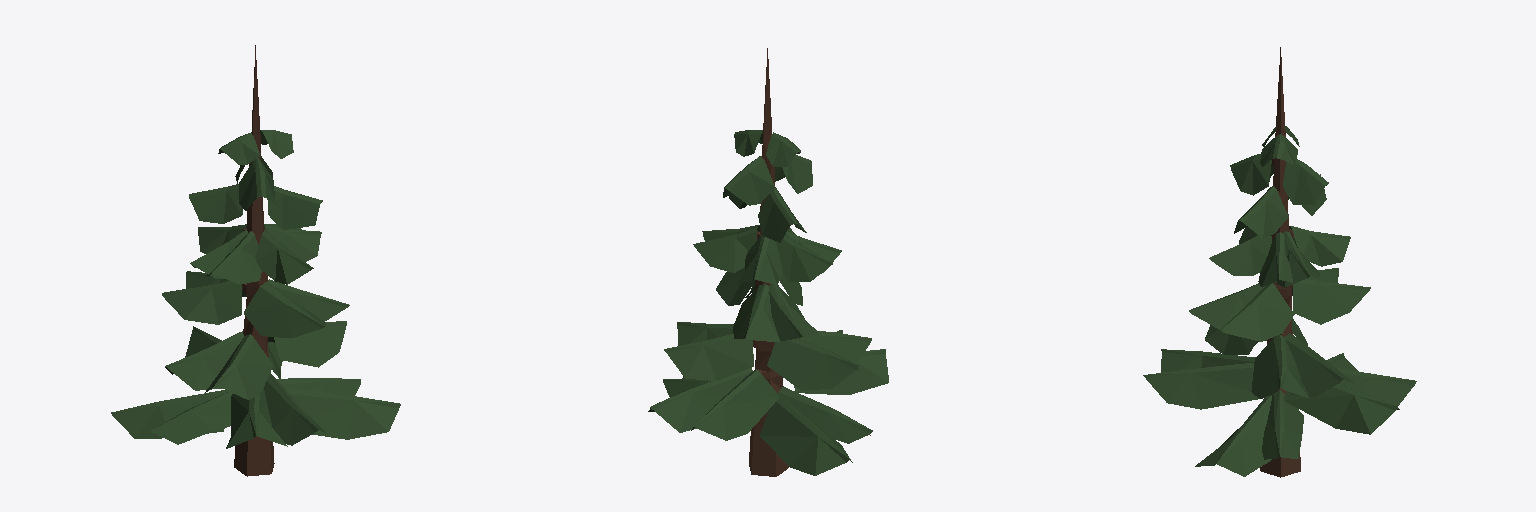
Rendered from PineTransp.obj.
3 views of the same model, side by side, from view 1: azimuth 30°, elevation 25°; view 2: azimuth 150°, elevation 25°; view 3: azimuth 270°, elevation 25° (orthographic).
Visible parts, largest first — view 1: Mesh; view 2: Mesh; view 3: Mesh.
Boxes of the visible parts, x1,y1,x2,y2 form: Mesh: [111, 45, 400, 476]; Mesh: [648, 48, 888, 476]; Mesh: [1143, 47, 1416, 477].
Bounding box in the file's own units: 3.62 × 6.45 × 3.77.